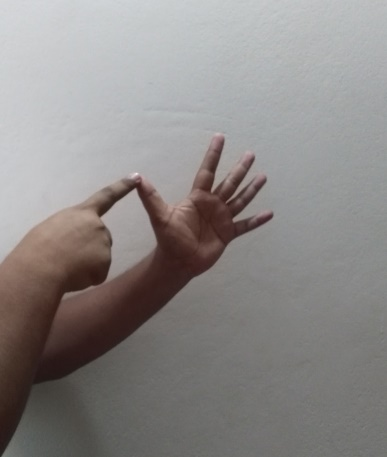a: (60, 133, 276, 283)
